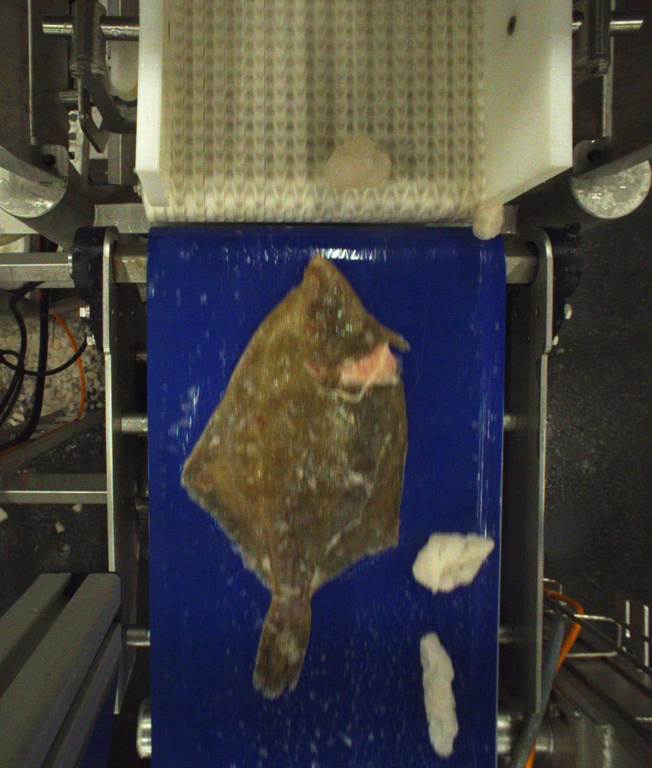PLE: (178, 254, 410, 699)
